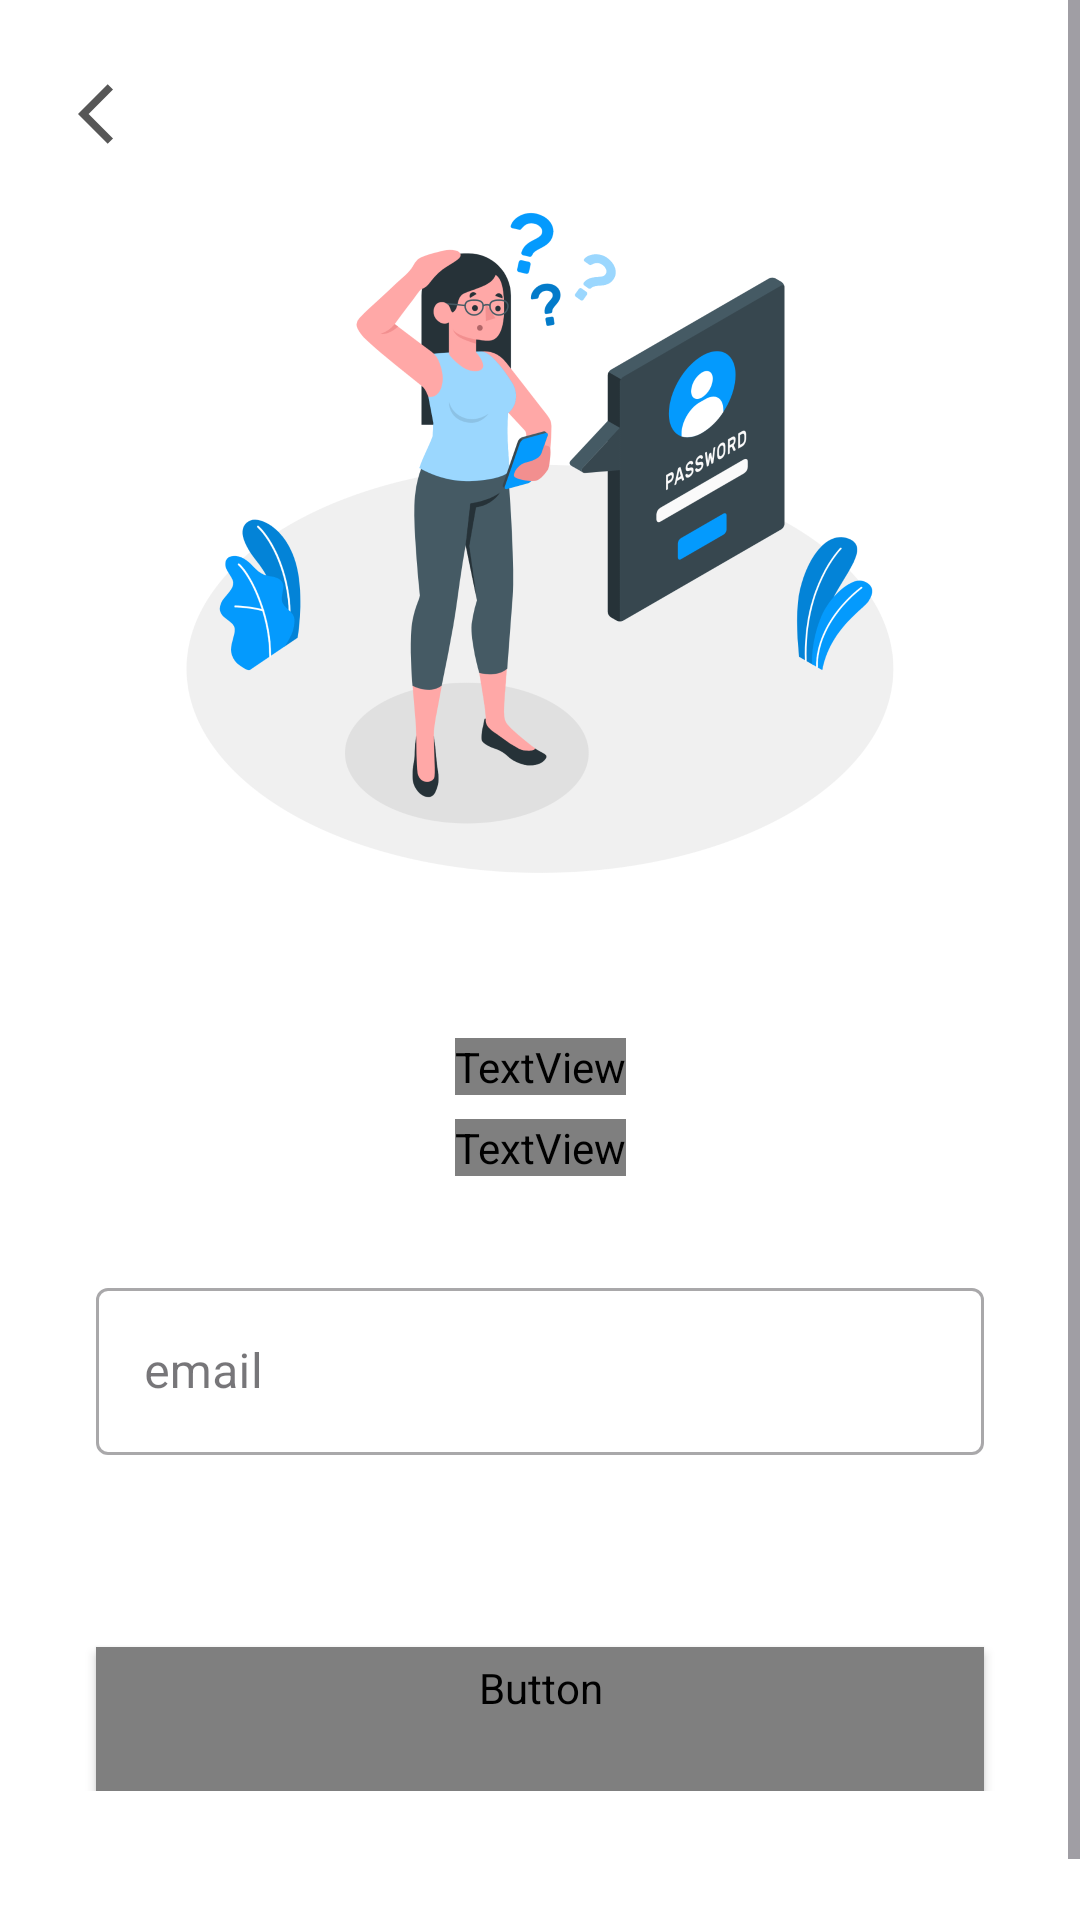

Point at icon controls on the screen. Image size 1080 × 1920, points as (x,y).
arrow back: (95,114)
